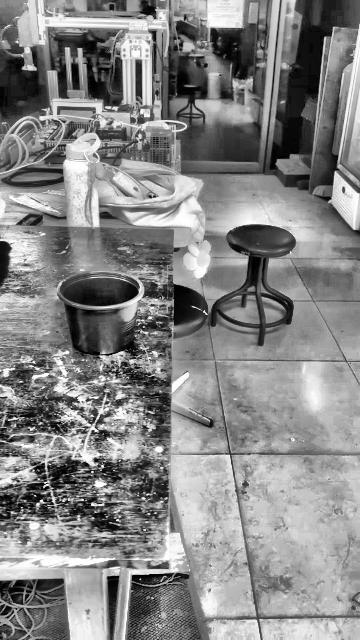pot: (58, 272, 141, 353)
